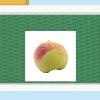half-ripe: (32, 39, 70, 73)
